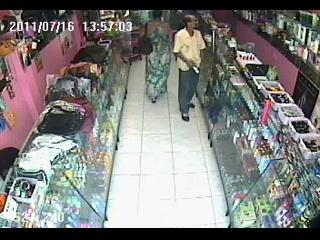Normal: (172, 15, 207, 122), (142, 12, 172, 104)
